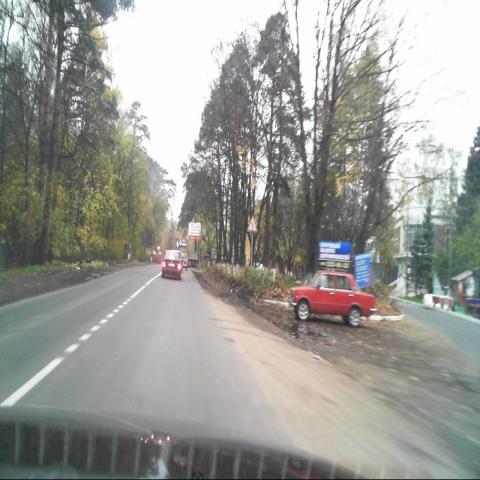1_11_1: (246, 214, 258, 232)
